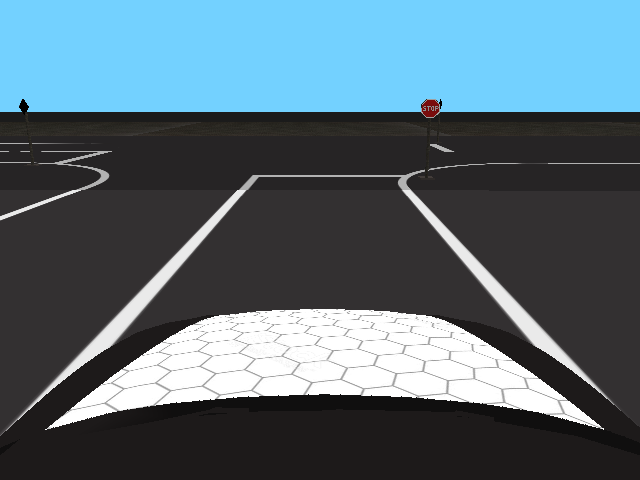stop: (421, 99, 440, 119)
